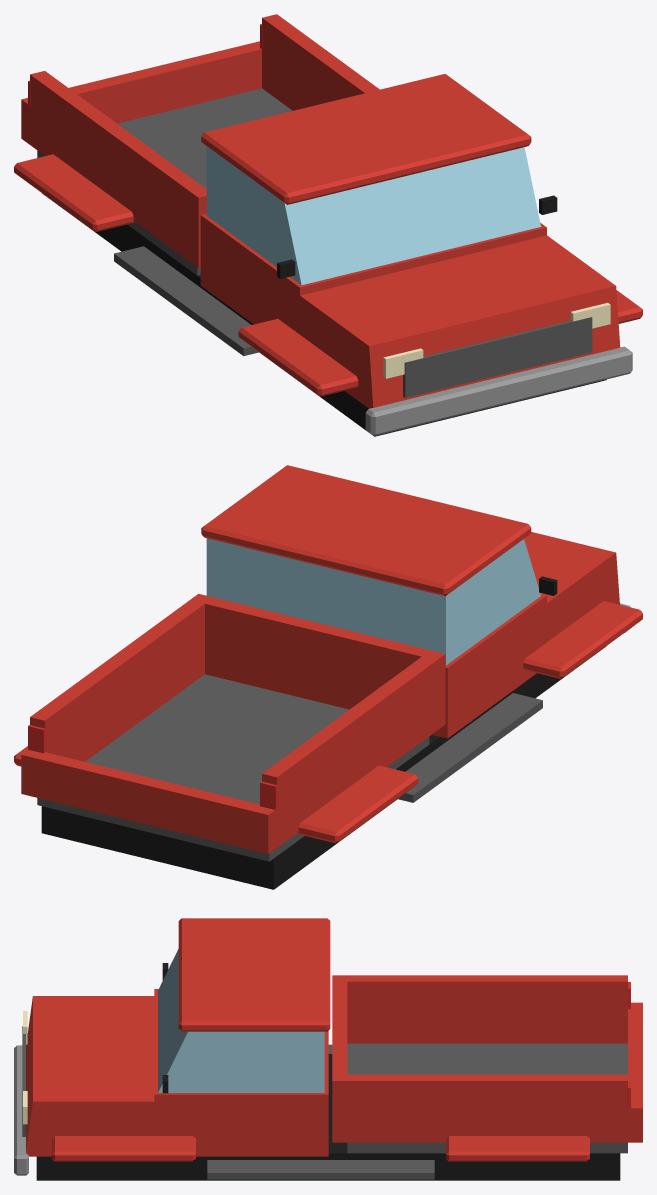
Rendered from TRK_Pickup_Body.fbx.
3 views of the same model, one above another, from view 1: azimuth 30°, elevation 25°; view 2: azimuth 150°, elevation 25°; view 3: azimuth 270°, elevation 25° (orthographic). The views are drawn at different scales.
Parts seen in each view (by area): view 1: TRK_Pickup_Body; view 2: TRK_Pickup_Body; view 3: TRK_Pickup_Body.
Part boxes in pixels (x1,y1,x2,y2): TRK_Pickup_Body: [14, 14, 642, 436]; TRK_Pickup_Body: [14, 465, 642, 889]; TRK_Pickup_Body: [14, 918, 642, 1180].
Bounding box in the file's own units: 8.7 × 4.7 × 16.6.
